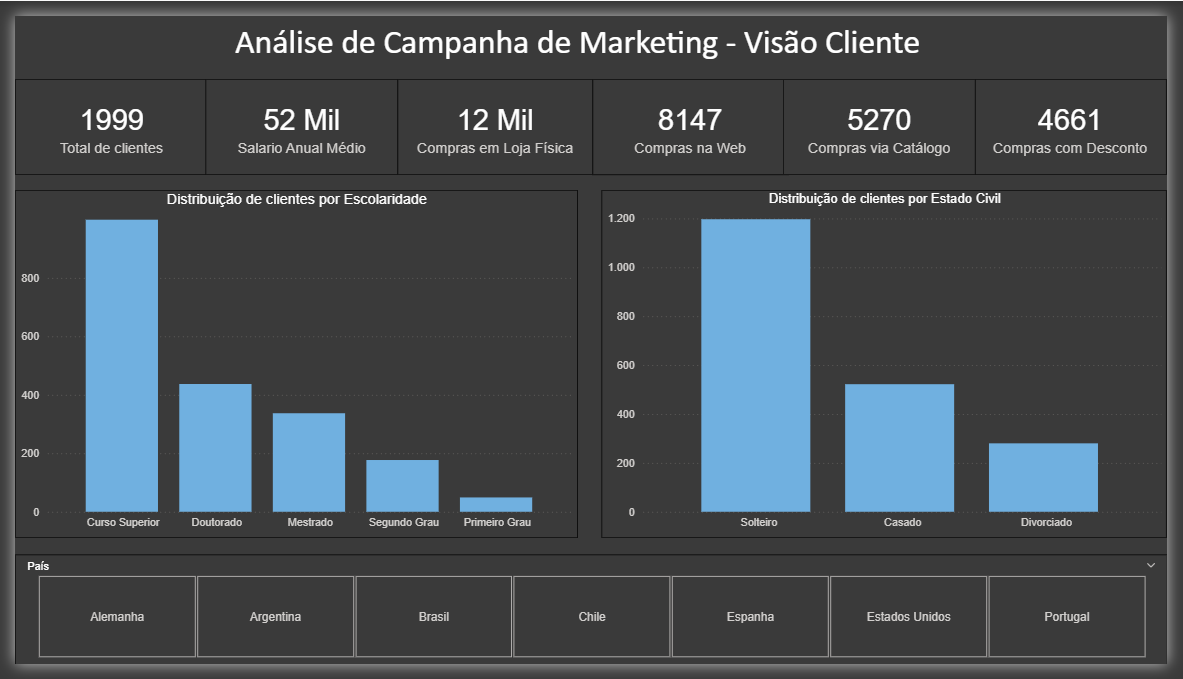

Layout of this report page (visuals, bound fields, positions):
{"tool":"powerbi","page":{"name":"Visão Cliente","canvas":[1280,720],"ordinal":0},"visuals":[{"type":"card","fields":{"Values":["CountNonNull(DadosMarketing.ID)"]},"box":[0,70,214.7,106.6],"z":0},{"type":"card","fields":{"Values":["Avg(DadosMarketing.Salario Anual)"]},"box":[211.6,70,214,106.6],"z":1000},{"type":"card","fields":{"Values":["Sum(DadosMarketing.Numero de Compras na Loja)"]},"box":[424.7,70,217,106.6],"z":2000},{"type":"card","fields":{"Values":["Sum(DadosMarketing.Numero de Compras na Web)"]},"box":[641.2,69.6,217,106.9],"z":3000},{"type":"card","fields":{"Values":["Sum(DadosMarketing.Numero de Compras com Desconto)"]},"box":[1065.3,70,214.7,106.6],"z":4000},{"type":"card","fields":{"Values":["Sum(DadosMarketing.Numero de Compras via Catalogo)"]},"box":[852.6,70,214,106.6],"z":5000},{"type":"textbox","box":[87.4,0,1076.8,69.6],"z":6000},{"type":"clusteredColumnChart","title":"Distribuição de clientes por Escolaridade","fields":{"Category":["DadosMarketing.Escolaridade"],"Y":["CountNonNull(DadosMarketing.ID)"]},"box":[0,194.1,625.1,386.5],"z":7000},{"type":"clusteredColumnChart","title":"Distribuição de clientes por Estado Civil","fields":{"Category":["DadosMarketing.Estado Civil"],"Y":["CountNonNull(DadosMarketing.ID)"]},"box":[652.2,194.1,628.3,386.5],"z":8000},{"type":"slicer","fields":{"Values":["DadosMarketing.Pais"]},"box":[0,598.1,1280.4,122.5],"z":9000}]}

Visuals, with their boxes in screenshot pixels (x1, y1, x2, y2), scaled from the page's 1280x720 canvas onto the 1183x679 screenshot:
card - CountNonNull(DadosMarketing.ID): detection(0, 66, 198, 167)
card - Avg(DadosMarketing.Salario Anual): detection(196, 66, 393, 167)
card - Sum(DadosMarketing.Numero de Compras na Loja): detection(393, 66, 593, 167)
card - Sum(DadosMarketing.Numero de Compras na Web): detection(593, 66, 793, 166)
card - Sum(DadosMarketing.Numero de Compras com Desconto): detection(985, 66, 1182, 167)
card - Sum(DadosMarketing.Numero de Compras via Catalogo): detection(788, 66, 986, 167)
textbox: detection(81, 0, 1076, 66)
"Distribuição de clientes por Escolaridade" clusteredColumnChart: detection(0, 183, 578, 548)
"Distribuição de clientes por Estado Civil" clusteredColumnChart: detection(603, 183, 1182, 548)
slicer - DadosMarketing.Pais: detection(0, 564, 1182, 678)
